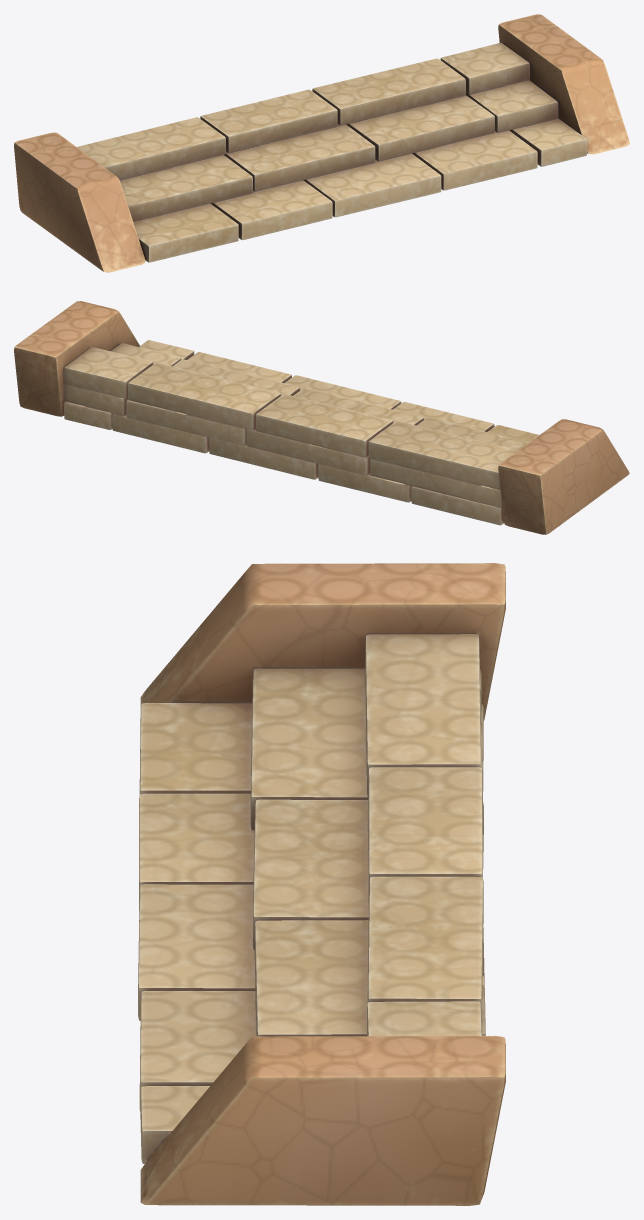
Rendered from Desert_Escalier.fbx.
The picture shows the model from 3 angles, top to bottom: view 1: azimuth 30°, elevation 25°; view 2: azimuth 150°, elevation 25°; view 3: azimuth 270°, elevation 25°; orthographic projection. The views are drawn at different scales.
Visible parts, largest first — view 1: Desert_Escalier; view 2: Desert_Escalier; view 3: Desert_Escalier.
Part boxes in pixels (box(x1,y1,x2,y2)): Desert_Escalier: box(14, 14, 629, 272); Desert_Escalier: box(14, 301, 629, 534); Desert_Escalier: box(138, 563, 505, 1205).
Bounding box in the file's own units: 1920 × 230 × 579.
Materials: 1 (1 with a texture image).
